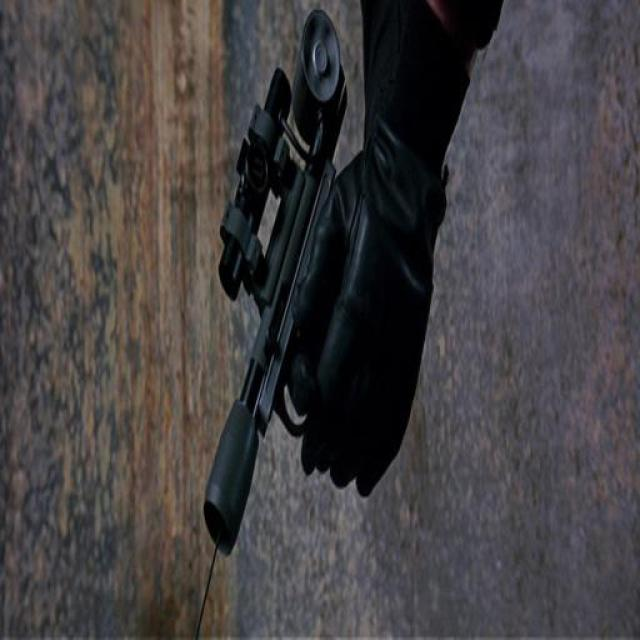pistol: (189, 2, 388, 566)
